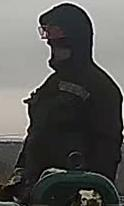gloves: (2, 162, 27, 198)
helmet: (36, 18, 70, 42)
vest: (18, 64, 123, 202)
